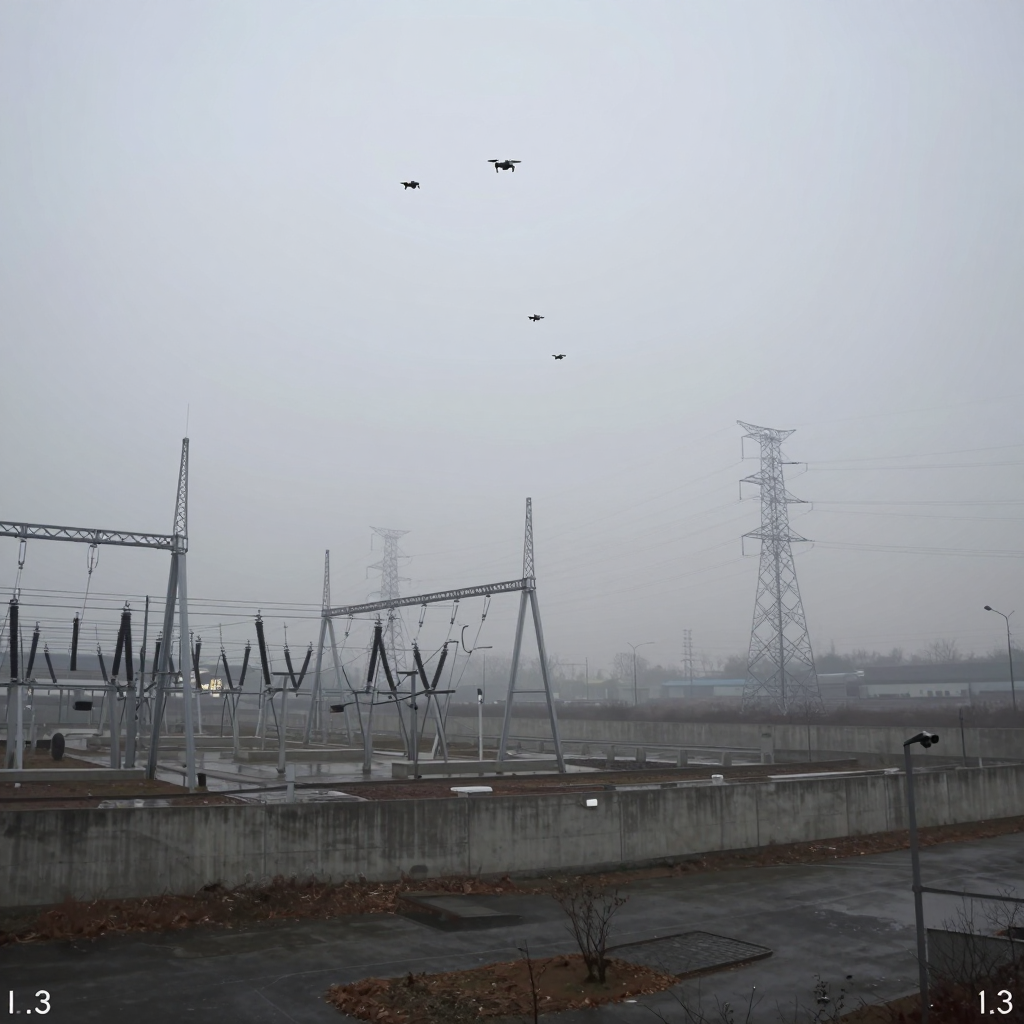drone: (488, 159, 512, 173), (400, 181, 420, 190), (528, 314, 544, 322), (512, 160, 521, 172), (552, 354, 567, 360)
